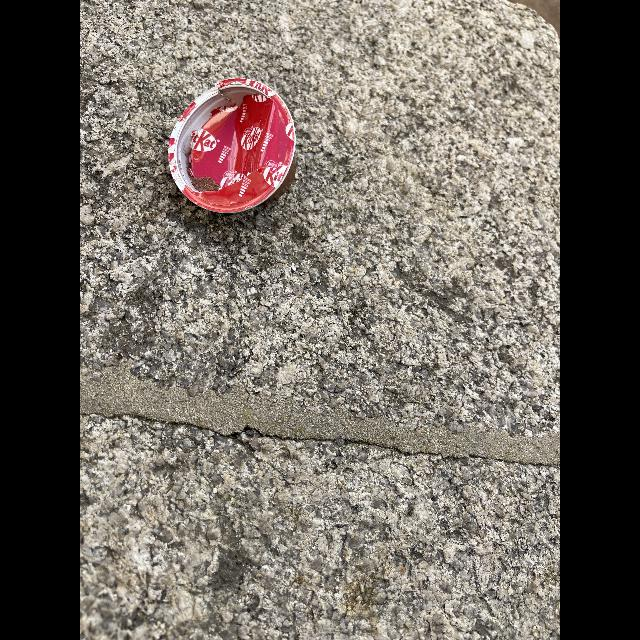damaged_capsule: (152, 73, 318, 221)
